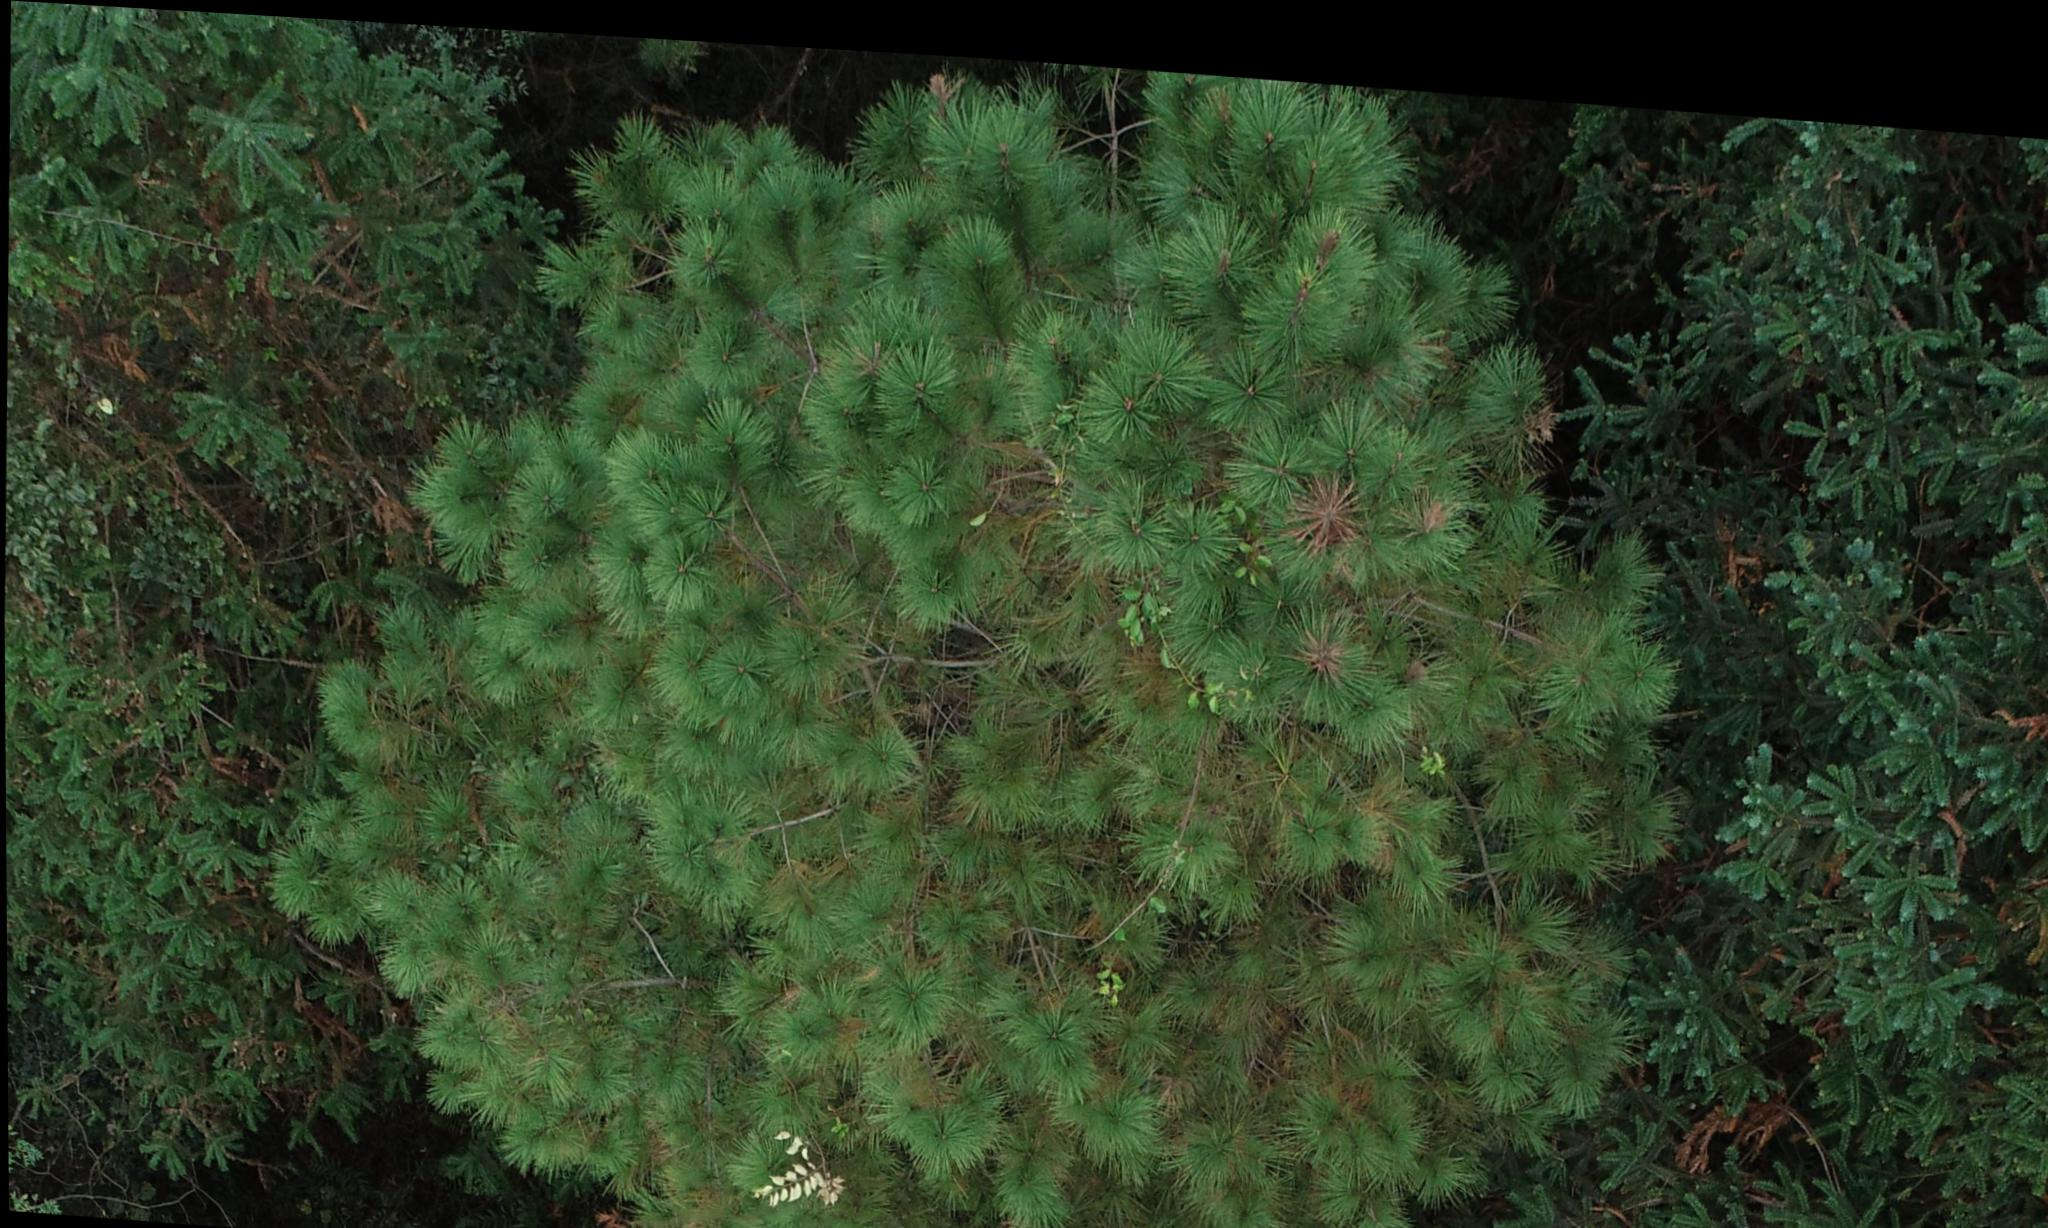light: (268, 16, 1694, 1228)
